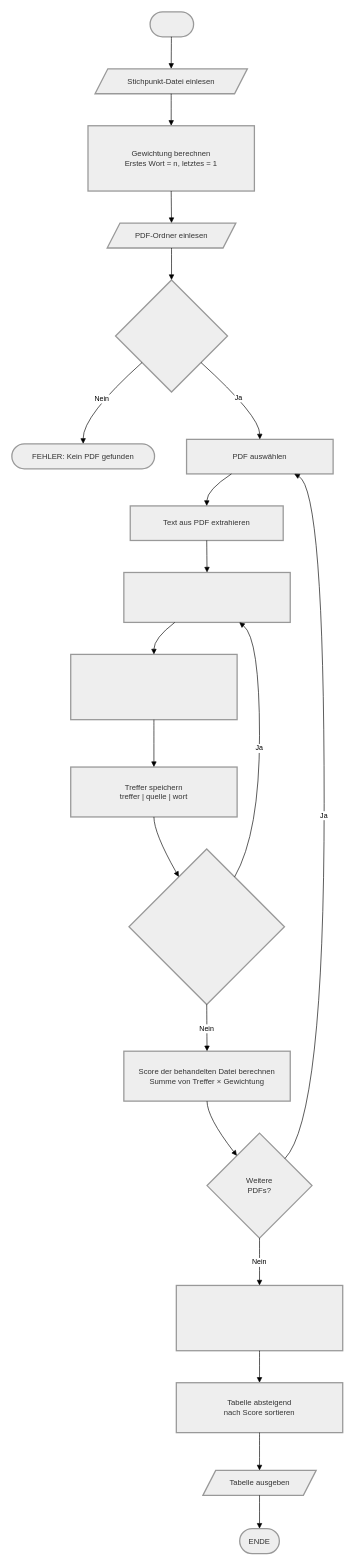
Some shapes in this 354 by 1565 pixel diagram are drawn without their labels. The shapes that lost their labels are listed below. From the top down, each one's centre as x and y in pixels, then its label:
(x=171, y=24): START
(x=171, y=335): PDFs gefunden?
(x=207, y=597): Schlüsselwort auswählen
(x=153, y=686): Exaktes Vorkommen des Schlüsselworts zählen - 1:1 Match (nicht case sensitive)
(x=206, y=926): Weitere Schlüsselwörter?
(x=259, y=1317): Tabelle erstellen Zeilen=Quellen, Spalten=Wörter, Zellen=Anzahl
